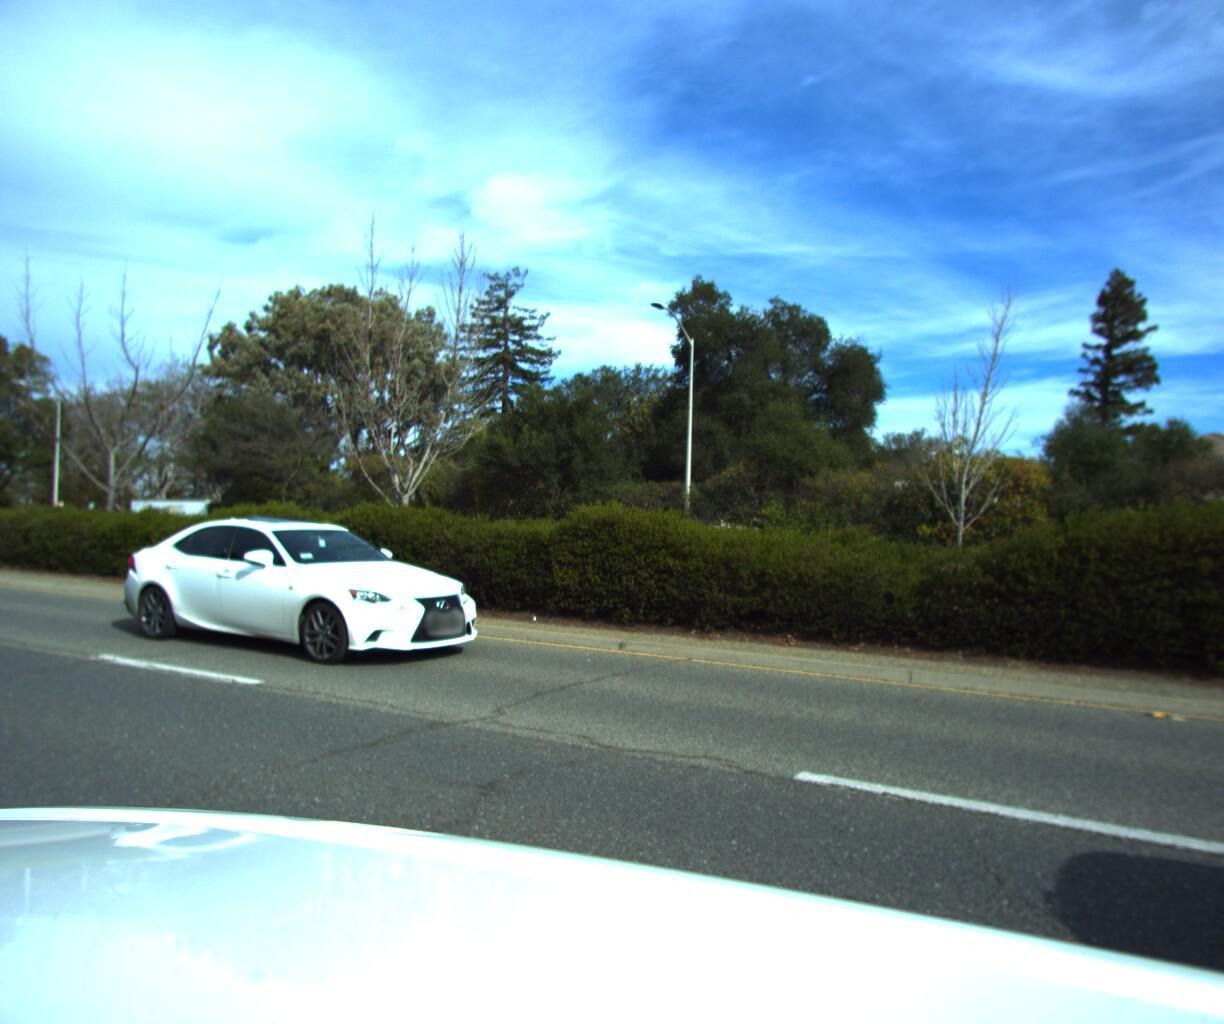car: (106, 510, 497, 683)
truck: (98, 492, 248, 549)
